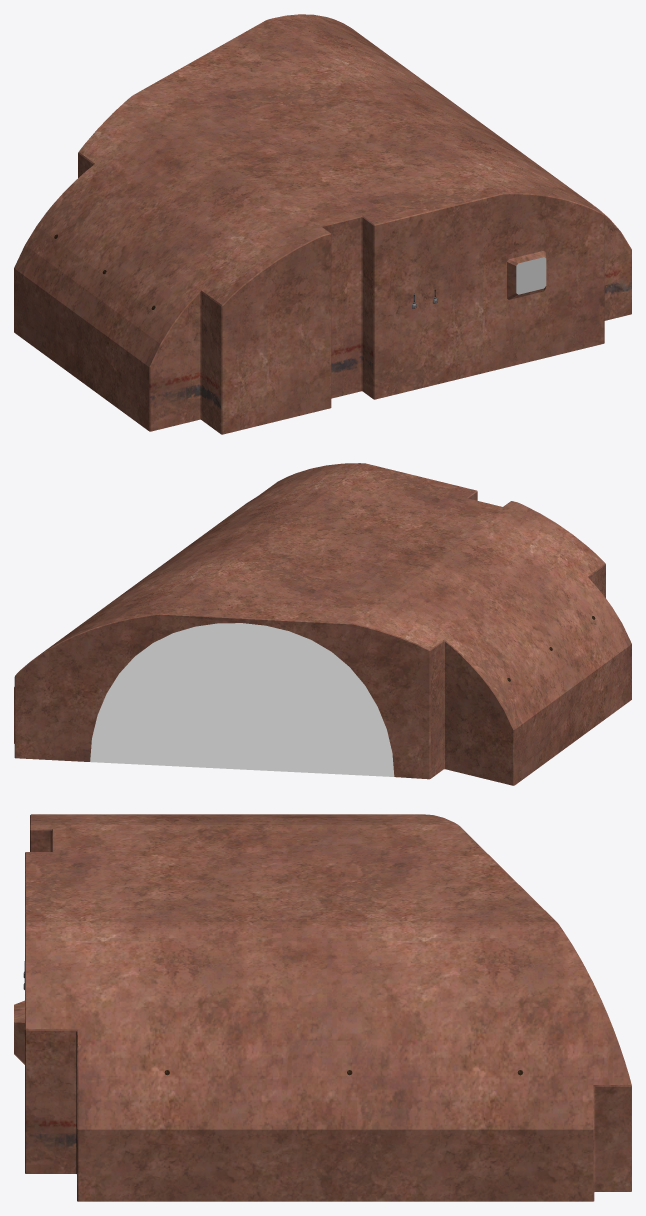
File: thm_nboo_cantina_r9_alcove5_mesh_r9.fbx
3 renders of one model, top to bottom at view 1: azimuth 30°, elevation 25°; view 2: azimuth 150°, elevation 25°; view 3: azimuth 270°, elevation 25°, orthographic. The views are drawn at different scales.
Parts seen in each view (by area): view 1: mesh_node; view 2: mesh_node; view 3: mesh_node.
Boxes of the visible parts, x1,y1,x2,y2 form: mesh_node: (14, 14, 631, 434); mesh_node: (14, 463, 631, 785); mesh_node: (14, 814, 631, 1201).
Bounding box in the file's own units: 12 × 4.15 × 11.86.
